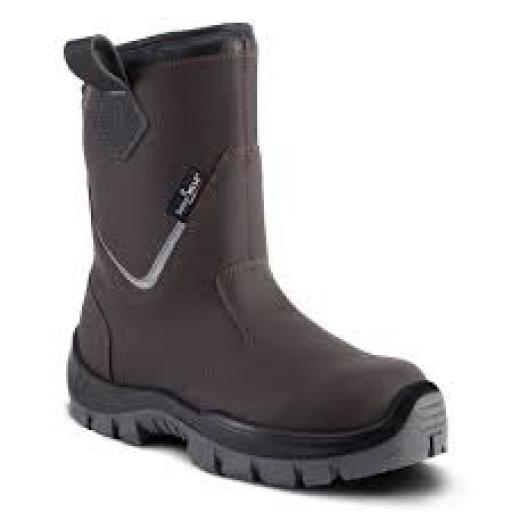safety_boots: (55, 259, 464, 485)
